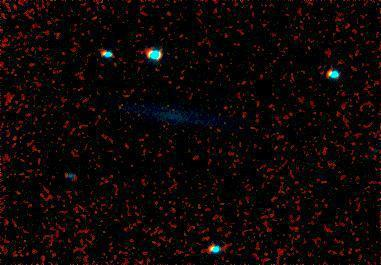star: (213, 109, 243, 139)
